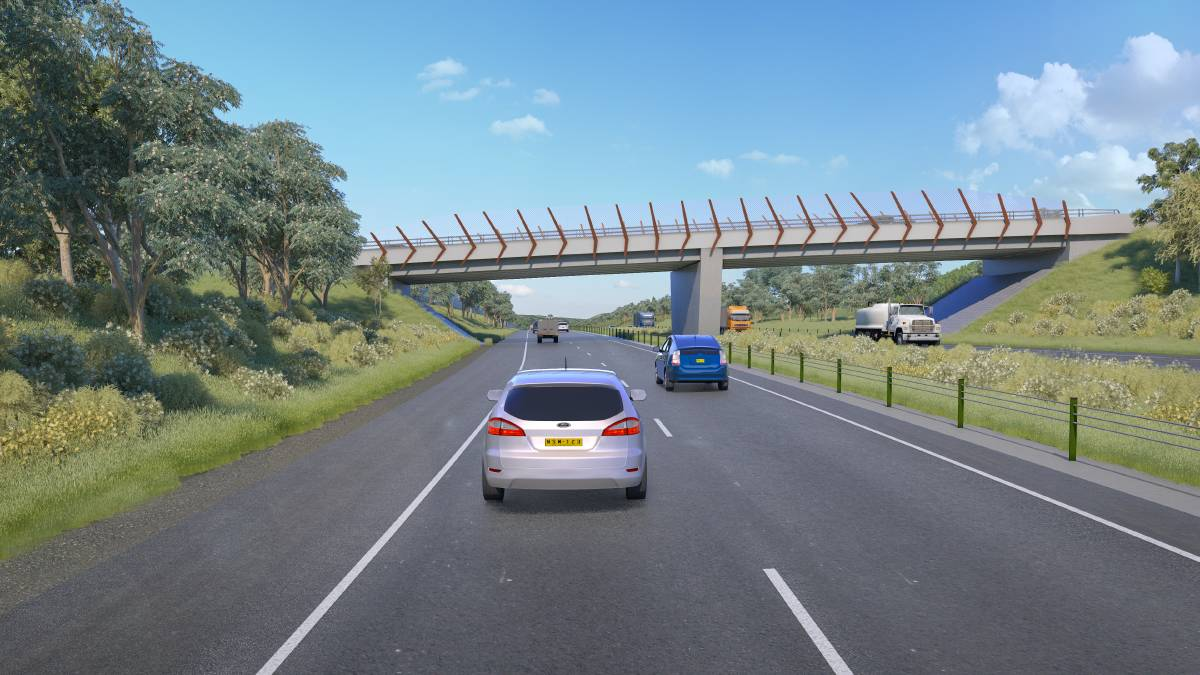bridge: (352, 189, 1142, 258)
